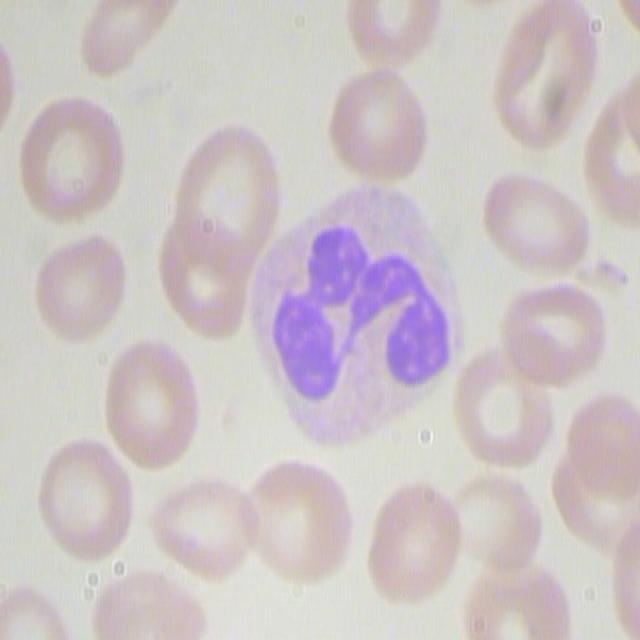RBC: (237, 447, 361, 592), (491, 1, 601, 156), (171, 120, 284, 264), (496, 260, 612, 398), (15, 90, 128, 222), (551, 383, 637, 546), (104, 336, 204, 472), (149, 466, 257, 587), (154, 214, 253, 344), (38, 436, 138, 564), (453, 351, 556, 475), (362, 480, 463, 604), (325, 68, 427, 188), (482, 166, 588, 276), (28, 228, 126, 344), (467, 563, 577, 640), (587, 88, 640, 227), (79, 0, 166, 75), (342, 0, 437, 68), (92, 577, 204, 634), (0, 586, 66, 640)
WBC: (252, 186, 463, 449)
